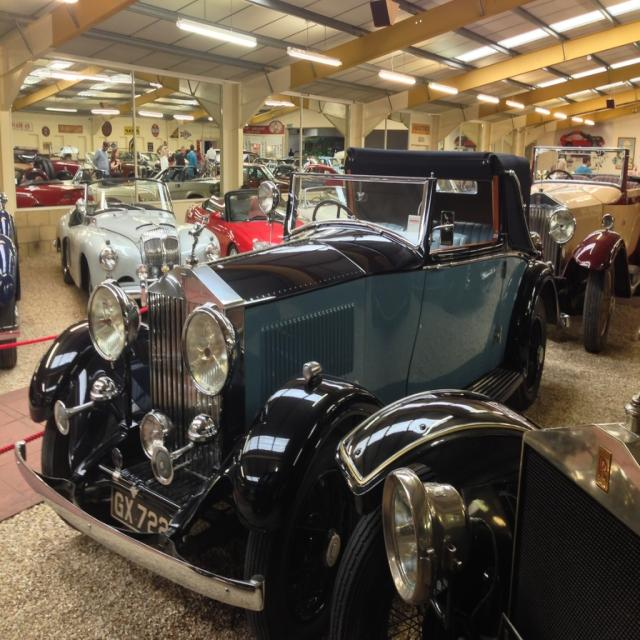car: (16, 140, 570, 628), (16, 160, 96, 209)
